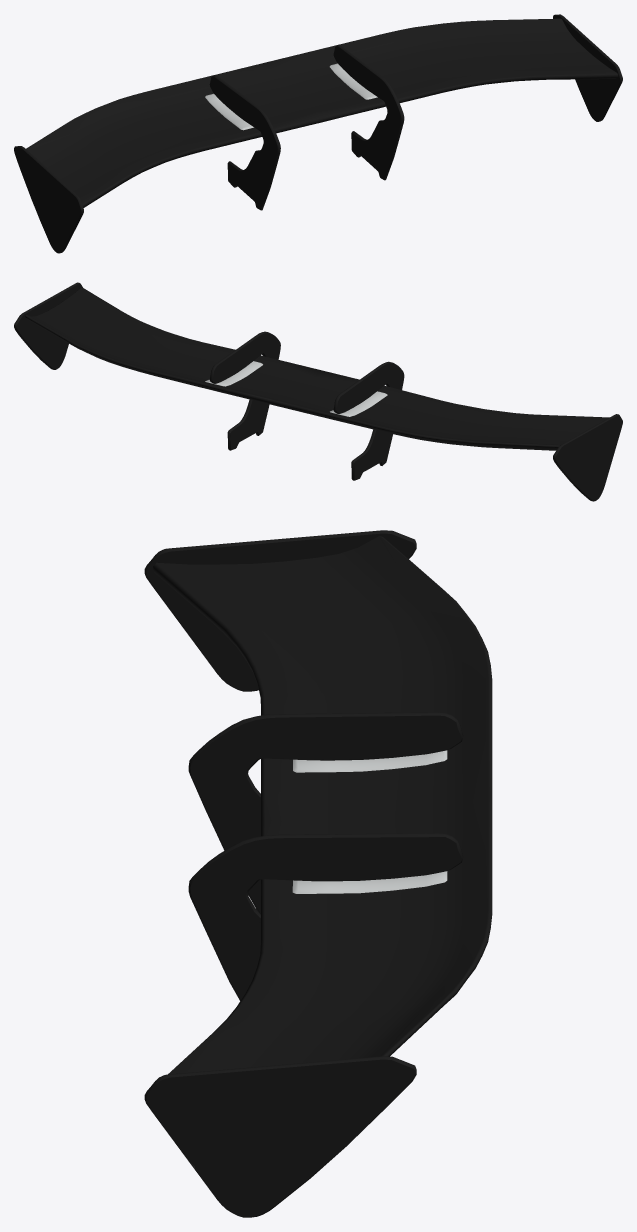
Rendered from Spoiler_V18.fbx.
3 views of the same model, one above another, from view 1: azimuth 30°, elevation 25°; view 2: azimuth 150°, elevation 25°; view 3: azimuth 270°, elevation 25° (orthographic). The views are drawn at different scales.
Visible parts, largest first — view 1: Spoiler_V18_LOD0; view 2: Spoiler_V18_LOD0; view 3: Spoiler_V18_LOD0.
Part boxes in pixels (<box>): Spoiler_V18_LOD0: <box>14,14,622,253</box>; Spoiler_V18_LOD0: <box>14,282,622,501</box>; Spoiler_V18_LOD0: <box>144,530,492,1217</box>.
Size of what is drawn, in the model's own units: 211 by 38 by 58.69.
